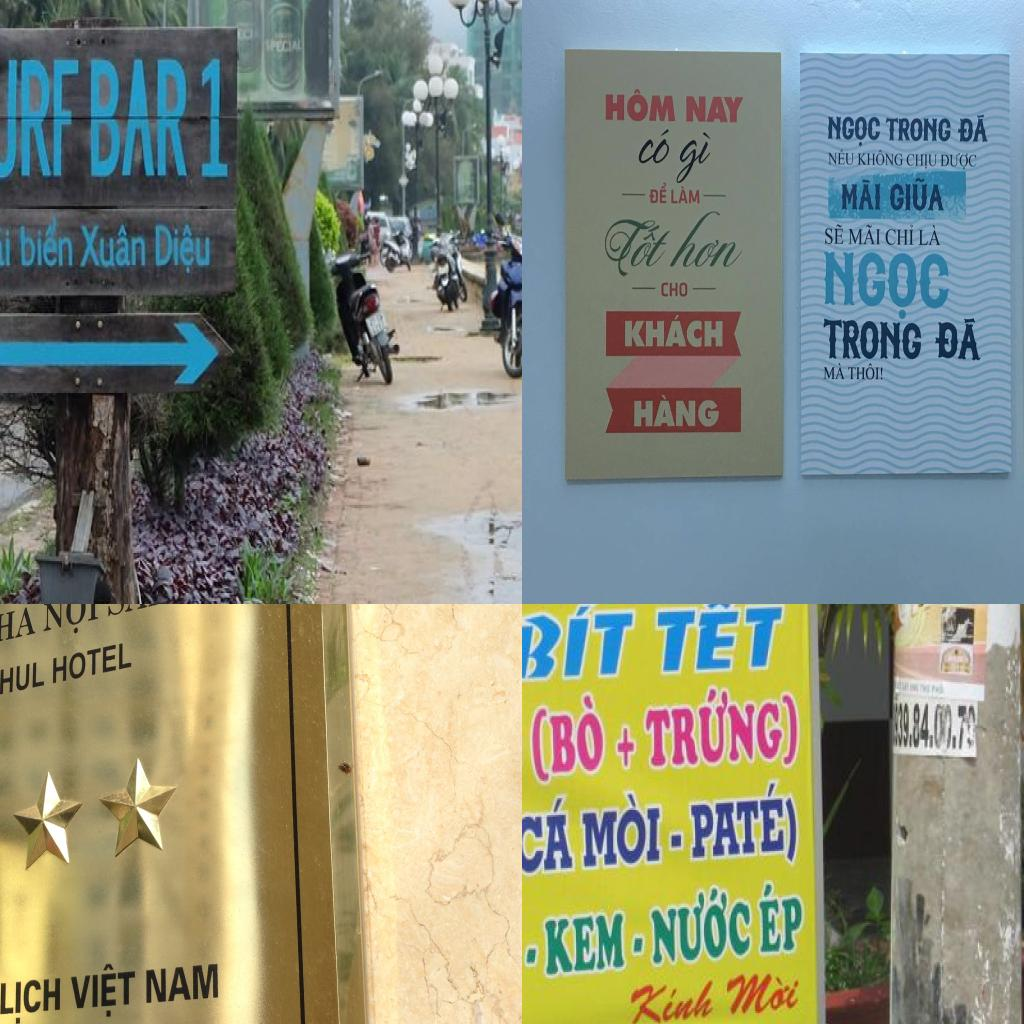text: (643, 680, 805, 781), (85, 58, 190, 182), (688, 778, 802, 876), (0, 56, 81, 191), (649, 604, 790, 677), (522, 604, 641, 683), (822, 249, 952, 321), (649, 880, 754, 969), (528, 691, 610, 786), (580, 790, 664, 872), (541, 908, 630, 982), (666, 209, 760, 272), (522, 792, 577, 895), (604, 211, 678, 282), (822, 317, 926, 363), (194, 60, 232, 180), (723, 967, 805, 1022), (66, 959, 138, 1021), (622, 310, 726, 352), (628, 975, 716, 1024), (48, 639, 134, 687), (756, 878, 806, 958), (78, 218, 149, 274), (144, 958, 220, 1008), (631, 392, 724, 429), (152, 223, 214, 278), (18, 214, 75, 273), (600, 86, 678, 128), (0, 973, 63, 1024), (897, 701, 955, 752), (670, 130, 718, 186), (933, 316, 981, 364), (684, 92, 746, 128), (41, 604, 101, 640), (887, 176, 945, 212), (884, 114, 952, 144), (0, 658, 46, 702), (826, 114, 882, 148), (102, 604, 220, 620), (0, 604, 36, 647), (841, 178, 883, 214), (636, 130, 674, 167), (614, 723, 640, 776), (955, 112, 989, 146), (856, 148, 904, 168), (264, 35, 304, 57), (847, 362, 885, 383), (669, 184, 705, 206), (885, 222, 915, 248), (941, 150, 979, 170), (848, 224, 882, 246), (0, 221, 14, 274), (660, 279, 688, 300), (906, 152, 938, 170), (822, 222, 846, 246), (917, 224, 941, 248), (646, 181, 668, 206), (822, 361, 846, 382), (827, 148, 854, 166)
